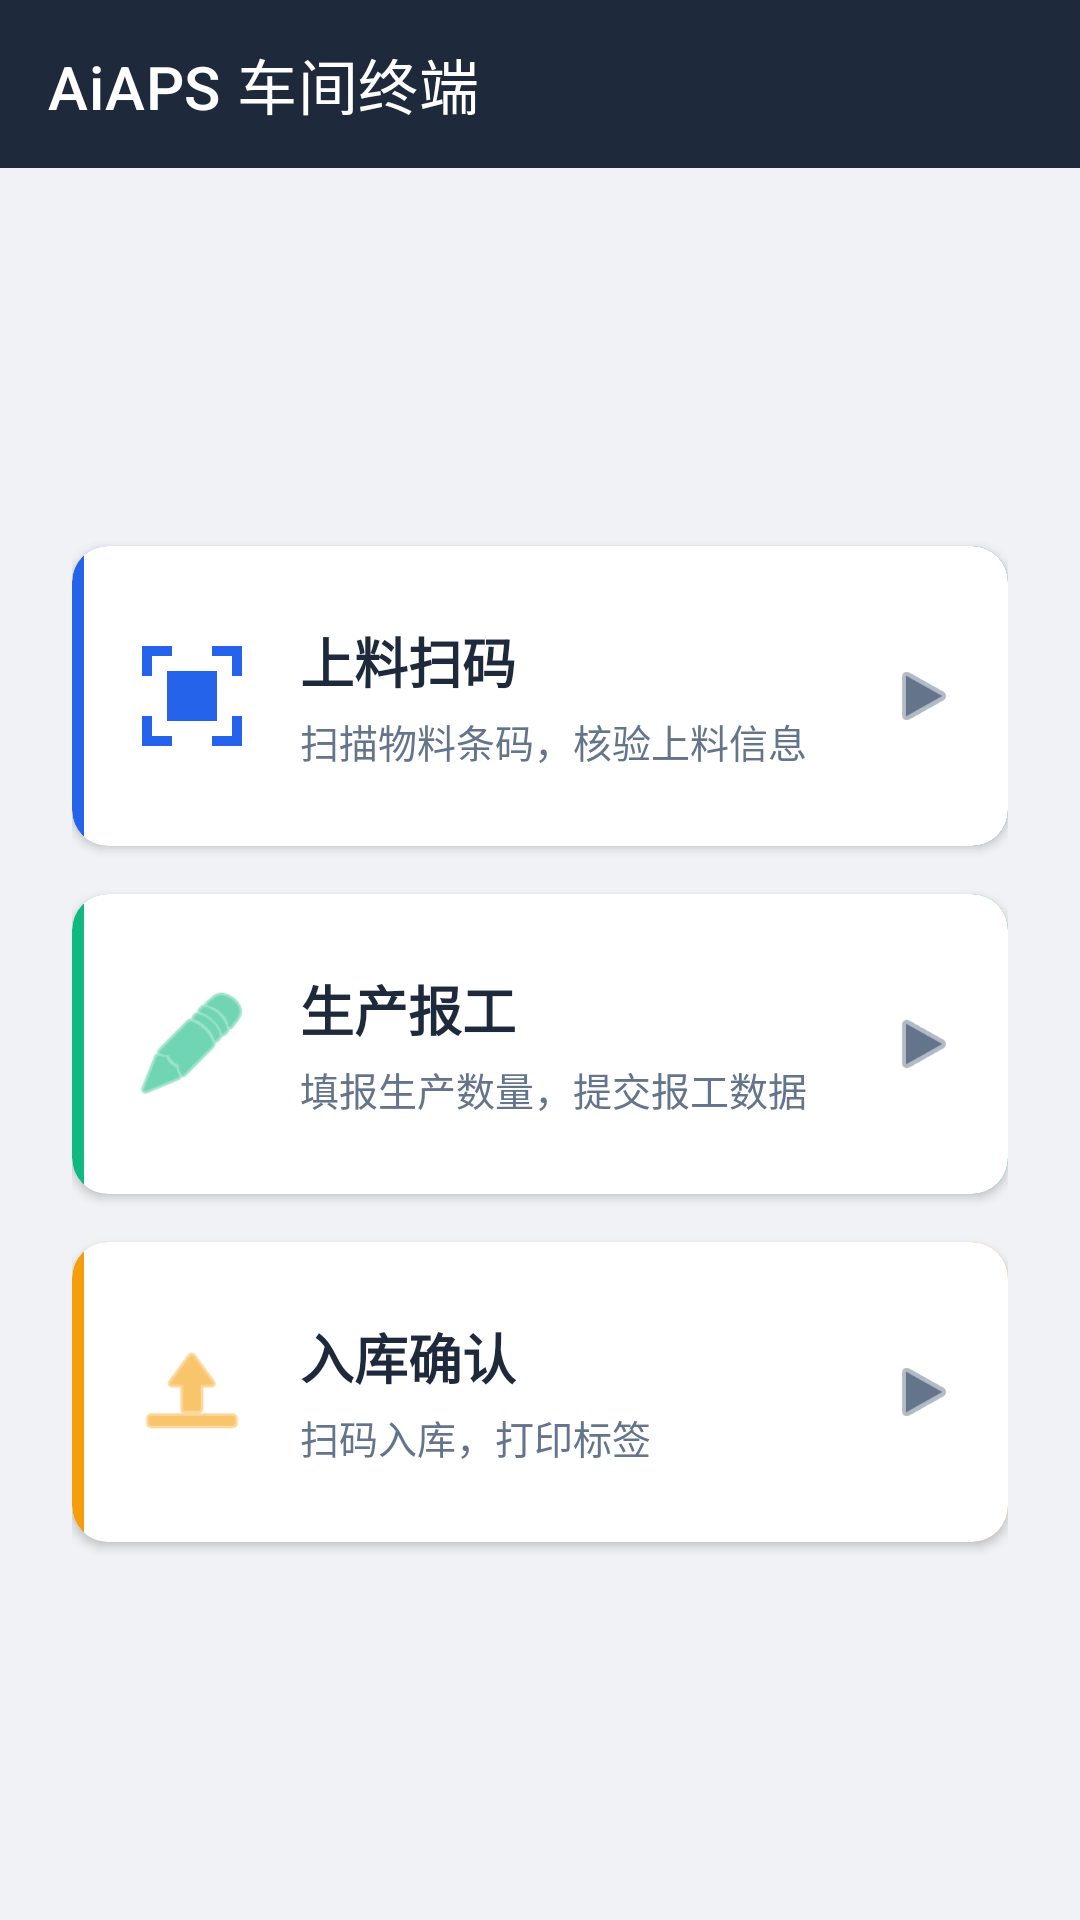

Screen size 1080w x 1920h. Icon name, then its box in pixels as (x1, y1, x2, y2):
play: (902, 672, 946, 720), (902, 1020, 946, 1068), (902, 1368, 946, 1416)
